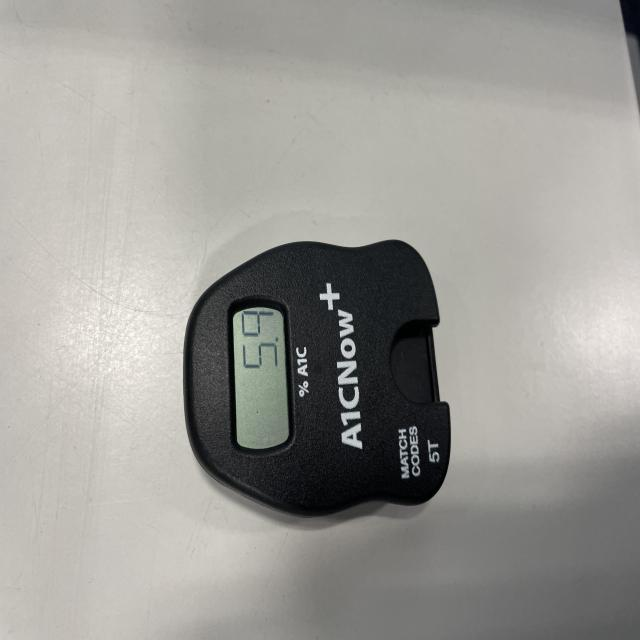hba1c: (182, 240, 452, 521)
